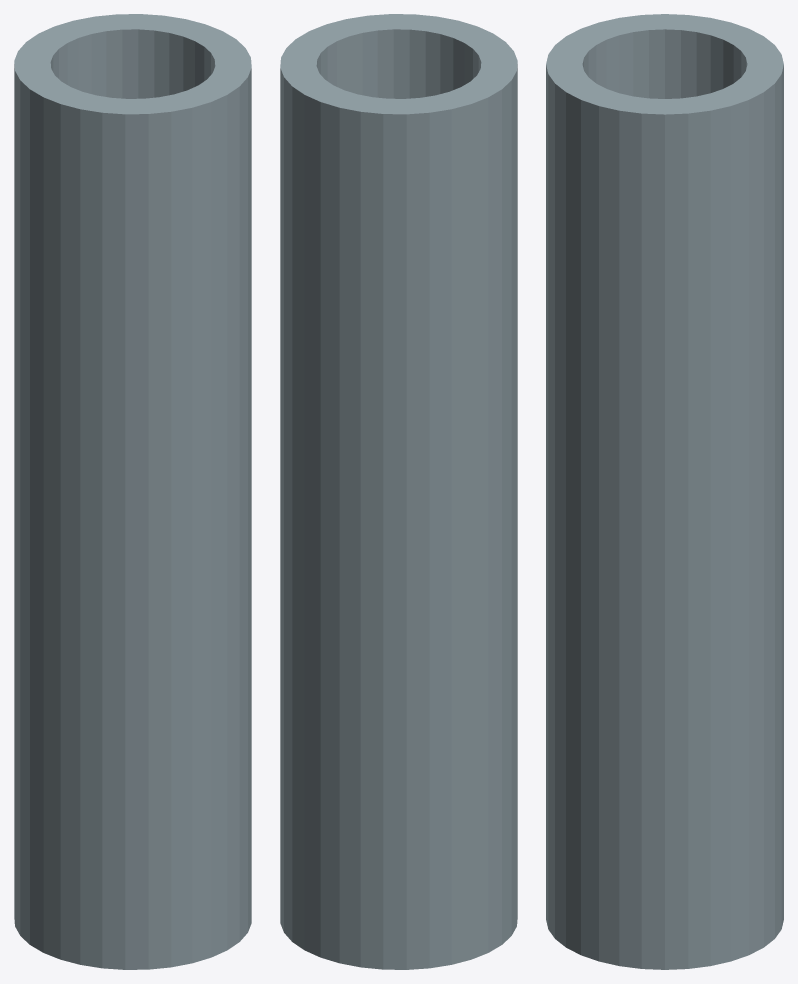
The model's file is Pipe.fbx.
3 renders of one model, left to right at view 1: azimuth 30°, elevation 25°; view 2: azimuth 150°, elevation 25°; view 3: azimuth 270°, elevation 25°, orthographic.
Parts seen in each view (by area): view 1: Cylinder; view 2: Cylinder; view 3: Cylinder.
Part boxes in pixels (x1=…): Cylinder: x1=14, y1=14, x2=251, y2=969; Cylinder: x1=280, y1=14, x2=517, y2=969; Cylinder: x1=546, y1=14, x2=783, y2=969.
Size of the model in its own units: 200 by 793 by 200.
